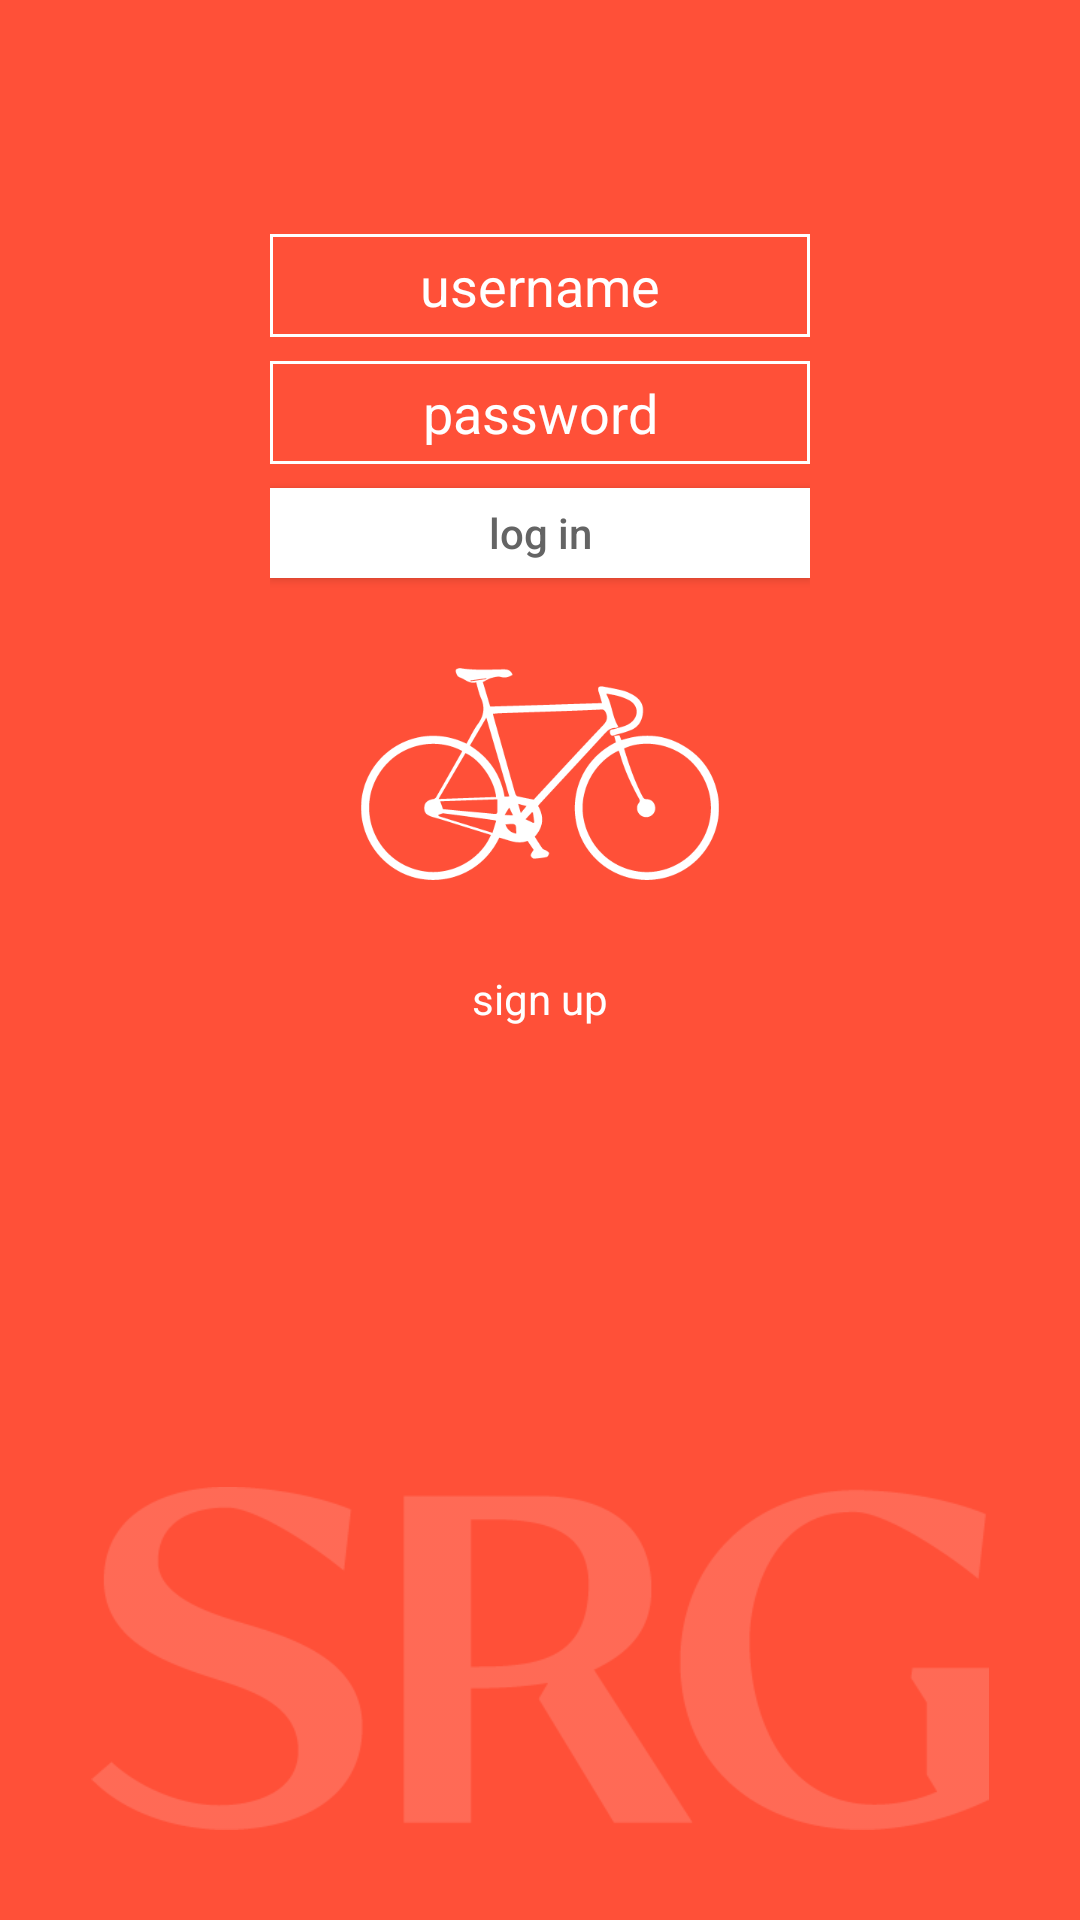

Named icons in this screenshot (1080×1920) and their bounding boxes, detection(x1, y1, x2, y2):
bikewhite: detection(361, 668, 719, 880)
